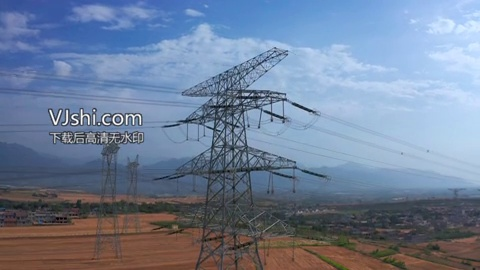tower_body: (172, 44, 296, 270)
tower_foot: (196, 220, 265, 270)
tower_head: (179, 46, 292, 126)
